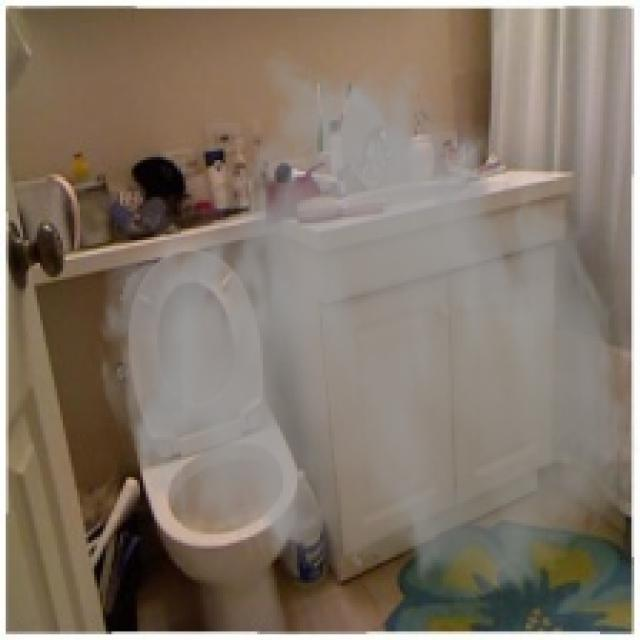smoke: (94, 45, 637, 606)
